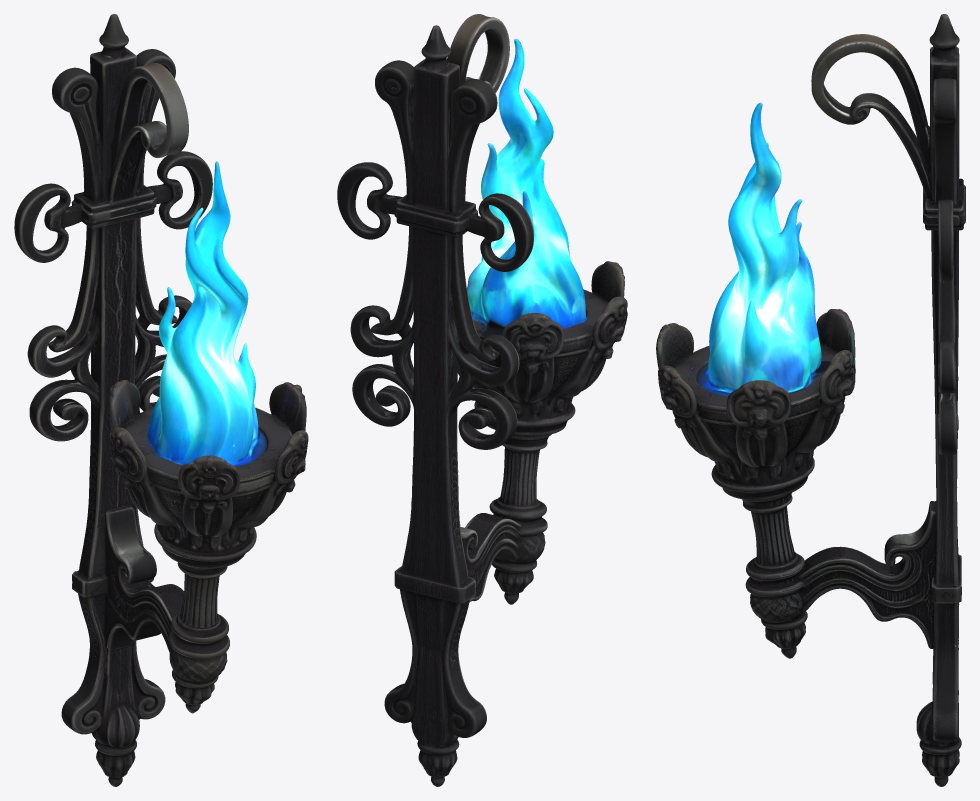
Rendered from stylized_gothic_wall_torch.gltf.
3 views of the same model, side by side, from view 1: azimuth 30°, elevation 25°; view 2: azimuth 150°, elevation 25°; view 3: azimuth 270°, elevation 25° (orthographic).
Visible parts, largest first — view 1: Mesh; view 2: Mesh; view 3: Mesh.
Part boxes in pixels (x1,y1,x2,y2): Mesh: (14, 14, 308, 786); Mesh: (337, 14, 627, 786); Mesh: (656, 14, 965, 786).
Bounding box in the file's own units: 0.1977 × 0.75 × 0.273.
1 material, 1 textured.
